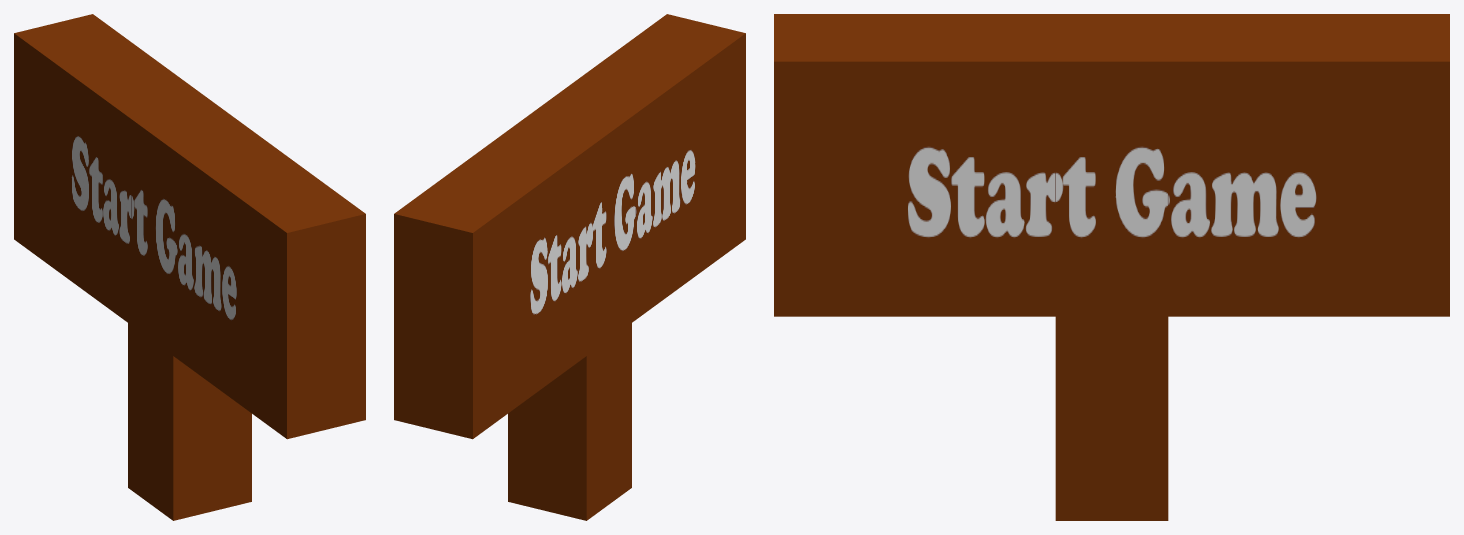
File: sign1.obj
3 views of the same model, side by side, from view 1: azimuth 30°, elevation 25°; view 2: azimuth 150°, elevation 25°; view 3: azimuth 270°, elevation 25° (orthographic). The views are drawn at different scales.
Visible parts, largest first — view 1: Cube; view 2: Cube; view 3: Cube.
Boxes of the visible parts, x1,y1,x2,y2 form: Cube: (14,14,365,520); Cube: (394,14,745,520); Cube: (774,14,1449,520).
Size of the model in its own units: 0.403 by 1.81 by 2.42.
